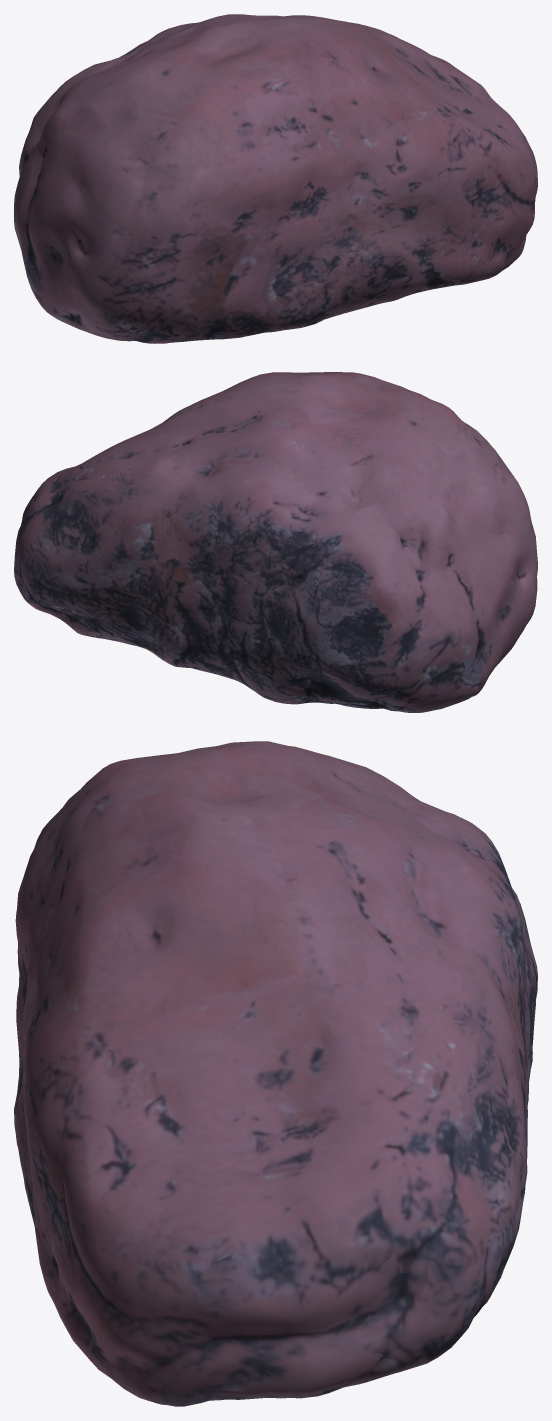
The model's file is Sebastian_Car.glb.
3 renders of one model, top to bottom at view 1: azimuth 30°, elevation 25°; view 2: azimuth 150°, elevation 25°; view 3: azimuth 270°, elevation 25°, orthographic. The views are drawn at different scales.
Visible parts, largest first — view 1: Sebastian_Car; view 2: Sebastian_Car; view 3: Sebastian_Car.
Boxes of the visible parts, box(x1,y1,x2,y2) form: Sebastian_Car: box(14, 14, 537, 343); Sebastian_Car: box(14, 372, 537, 712); Sebastian_Car: box(14, 741, 537, 1406).
Bounding box in the file's own units: 1.59 × 0.8746 × 0.9496.
Materials: 1 (1 with a texture image).
